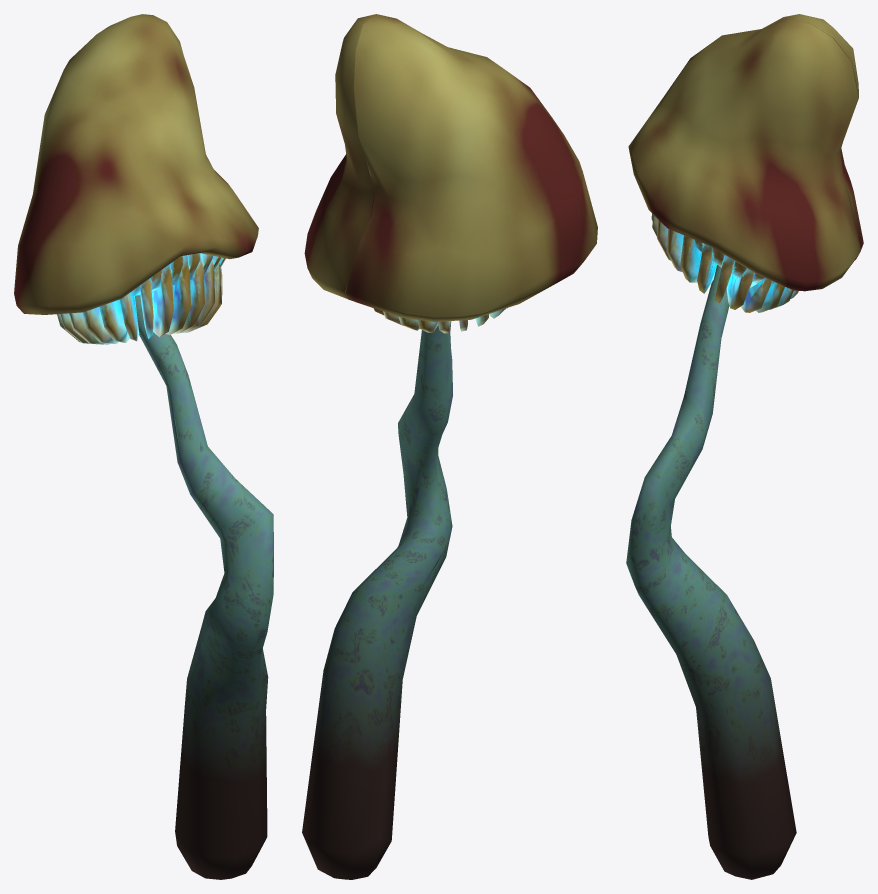
Rendered from Planet_Mushroom02.fbx.
3 views of the same model, side by side, from view 1: azimuth 30°, elevation 25°; view 2: azimuth 150°, elevation 25°; view 3: azimuth 270°, elevation 25° (orthographic). The views are drawn at different scales.
Parts seen in each view (by area): view 1: Planet_Mushroom02; view 2: Planet_Mushroom02; view 3: Planet_Mushroom02.
Boxes of the visible parts, x1,y1,x2,y2 form: Planet_Mushroom02: (14, 14, 273, 879); Planet_Mushroom02: (302, 14, 597, 879); Planet_Mushroom02: (626, 14, 863, 879).
Size of the model in its own units: 0.3108 by 1 by 0.2576.
